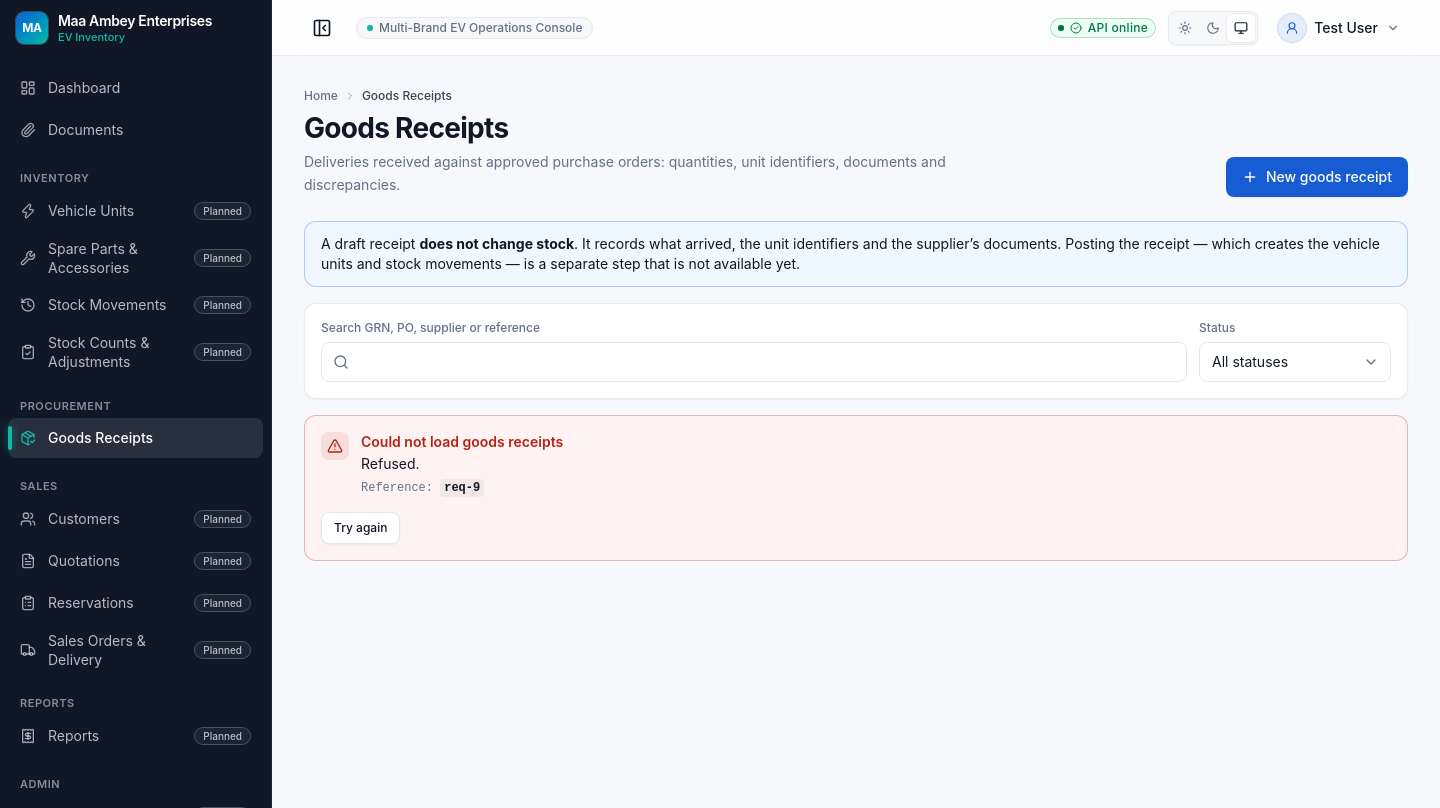
Test: goods receipt list › shows an empty state and a load error with retry
Expected: the text "Could not load goods receipts" is shown, [361, 433, 563, 450]
Click the button "Try again": (361, 528) [321, 512, 400, 544]
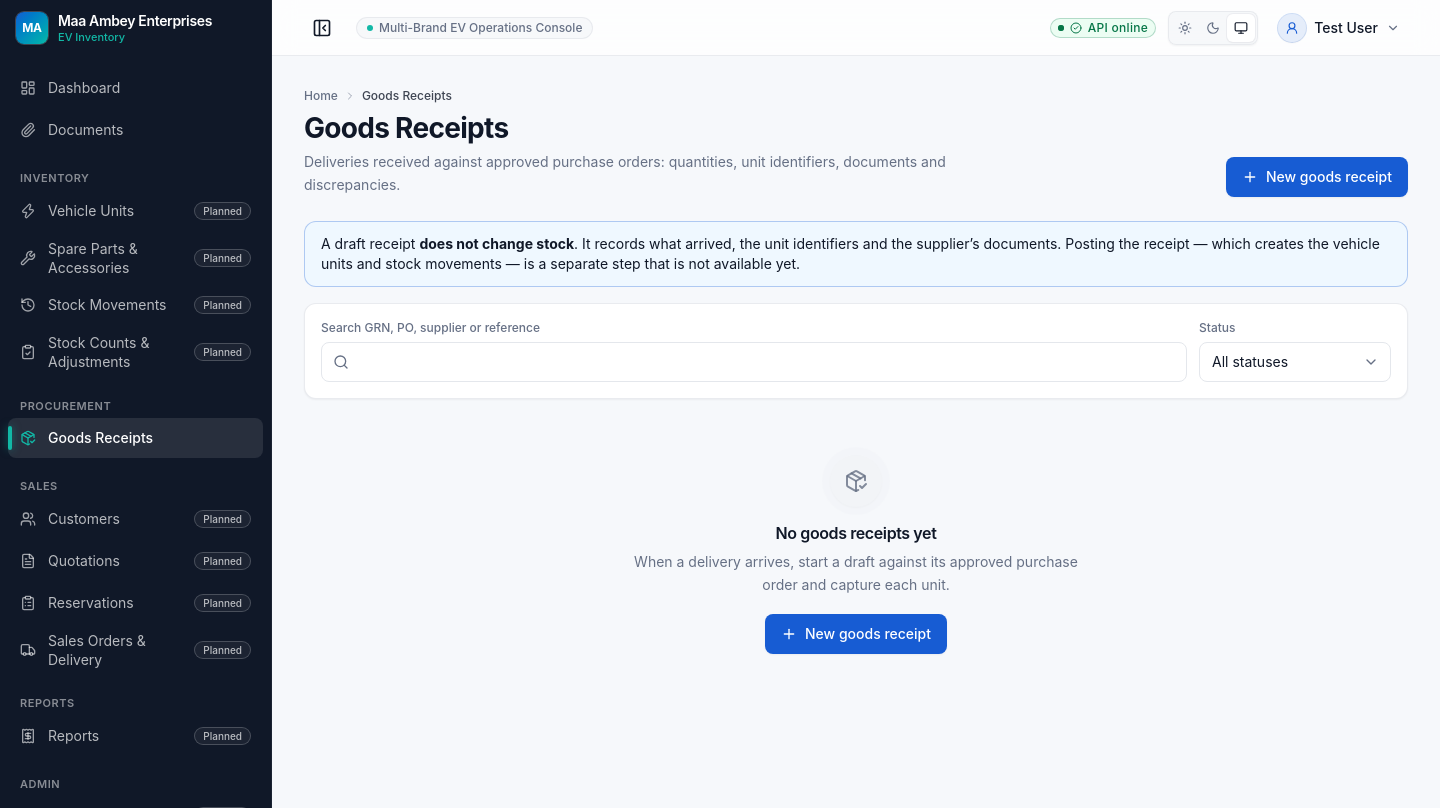
Result: the text "No goods receipts yet" is shown at [776, 521, 936, 545]
